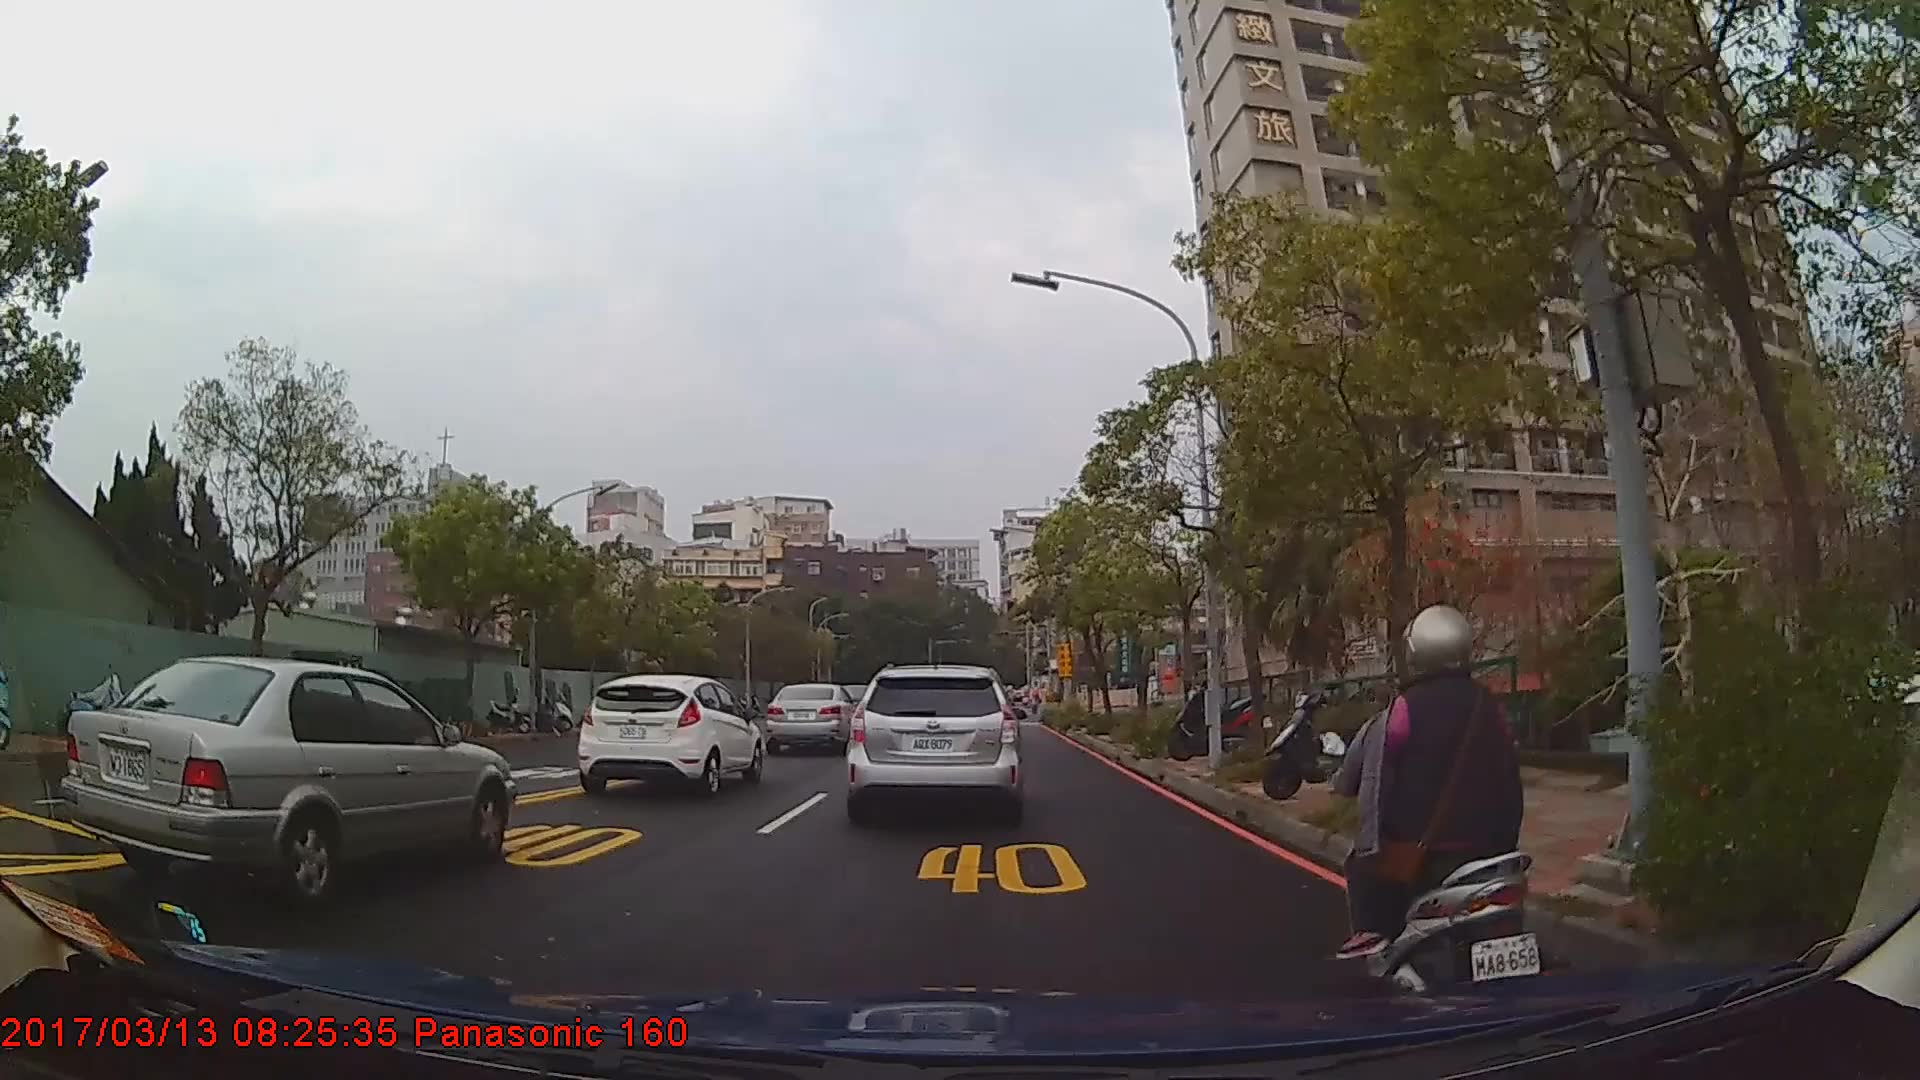rider: (1332, 603, 1540, 1024)
vehicle: (55, 656, 517, 903), (843, 661, 1022, 821), (575, 673, 763, 796), (766, 682, 862, 753)
